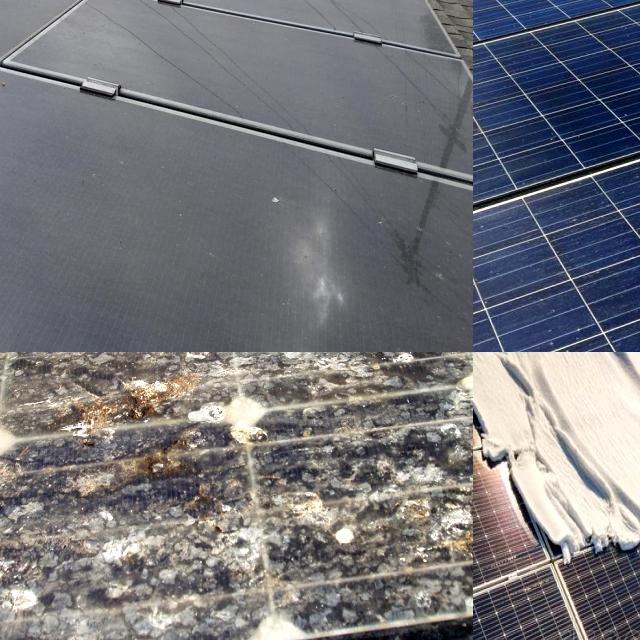bird: (61, 448, 270, 526), (105, 352, 323, 419), (343, 352, 471, 439), (49, 352, 234, 405), (396, 457, 473, 576), (0, 352, 61, 466), (0, 563, 84, 640)
dust: (240, 171, 359, 352), (0, 107, 55, 280)
panel: (511, 428, 640, 591), (473, 352, 512, 482), (473, 570, 480, 640)
